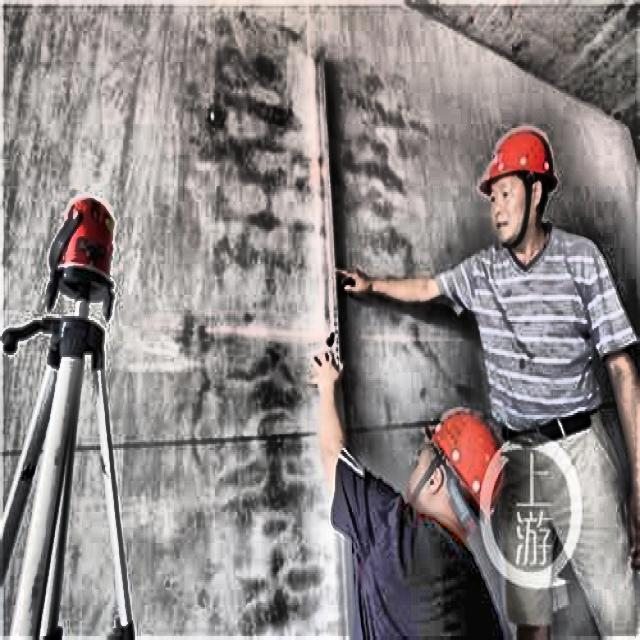helmet: (410, 408, 504, 528), (479, 118, 550, 250)
